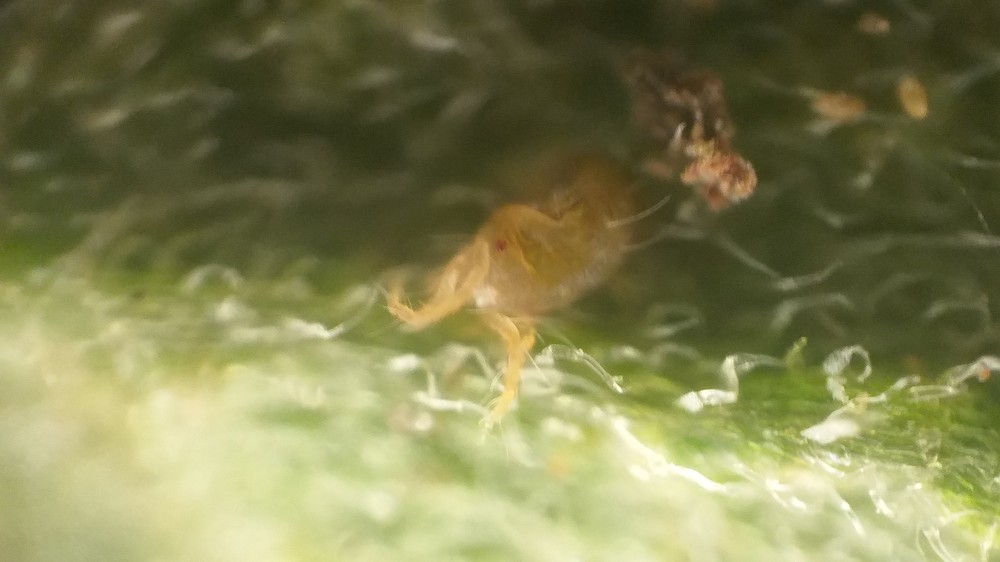Aracnido Rojo: (377, 131, 662, 413)
